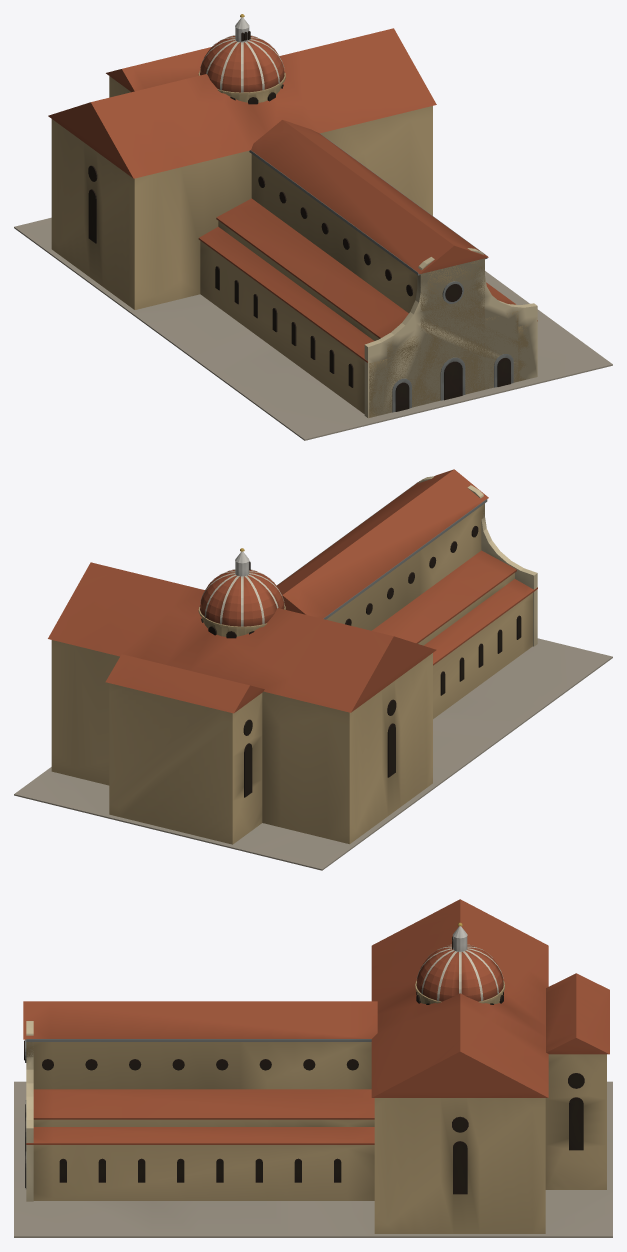
The model's file is santo-spirito.glb.
3 renders of one model, top to bottom at view 1: azimuth 30°, elevation 25°; view 2: azimuth 150°, elevation 25°; view 3: azimuth 270°, elevation 25°, orthographic. The views are drawn at different scales.
Visible parts, largest first — view 1: p0_walls, p1_roofs, p2_dome; view 2: p0_walls, p1_roofs, p2_dome; view 3: p0_walls, p1_roofs, p2_dome.
Part boxes in pixels (box(x1,y1,x2,y2)): p0_walls: box(14, 76, 612, 440); p1_roofs: box(48, 28, 537, 362); p2_dome: box(198, 14, 285, 104); p0_walls: box(14, 476, 612, 870); p1_roofs: box(48, 469, 537, 713); p2_dome: box(198, 548, 285, 638); p0_walls: box(14, 1021, 612, 1237); p1_roofs: box(23, 899, 609, 1144); p2_dome: box(415, 922, 504, 1004).
Size of the model in its own units: 60 by 42.91 by 98.
